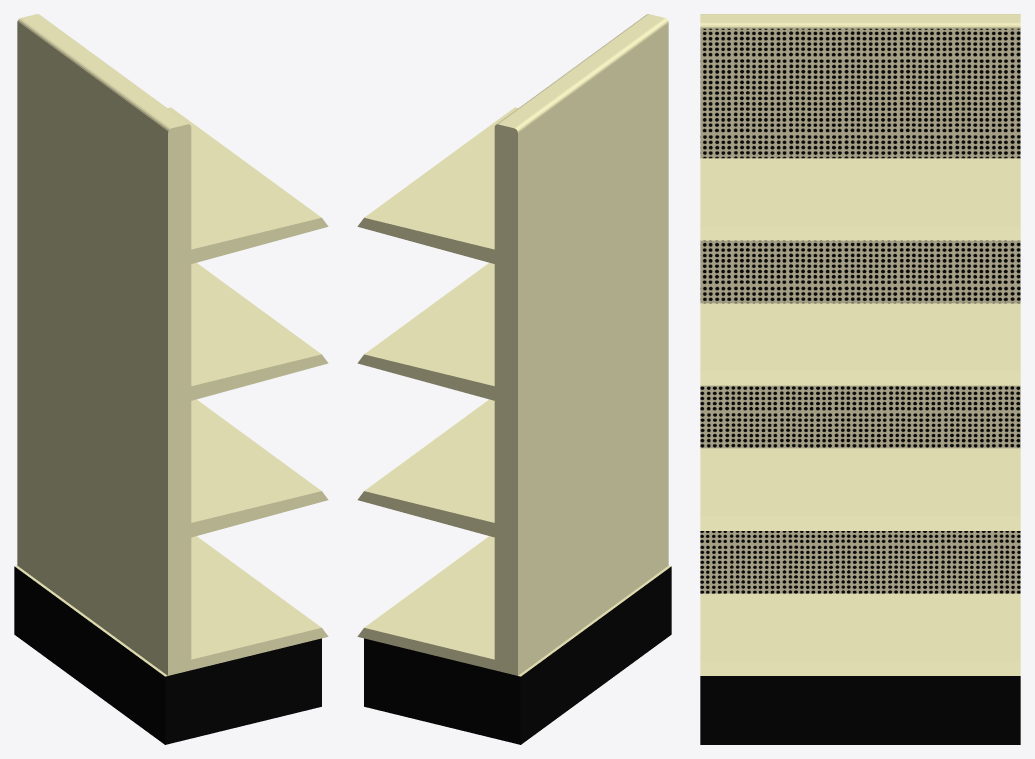
Rendered from shelf4.glb.
3 renders of one model, left to right at view 1: azimuth 30°, elevation 25°; view 2: azimuth 150°, elevation 25°; view 3: azimuth 270°, elevation 25°, orthographic. The views are drawn at different scales.
Visible parts, largest first — view 1: Cube; view 2: Cube; view 3: Cube.
Part boxes in pixels (left/top/right/bottom): Cube: left=14, top=14, right=328, bottom=744; Cube: left=357, top=14, right=671, bottom=744; Cube: left=700, top=14, right=1020, bottom=744.
Size of the model in its own units: 1.25 by 4.5 by 2.
Materials: 3 (1 with a texture image).
